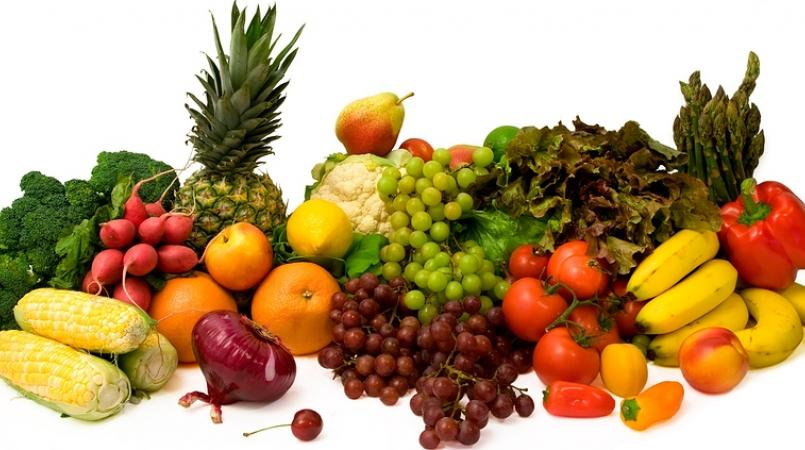banana: (607, 213, 727, 291), (639, 264, 742, 320), (739, 291, 800, 368)
